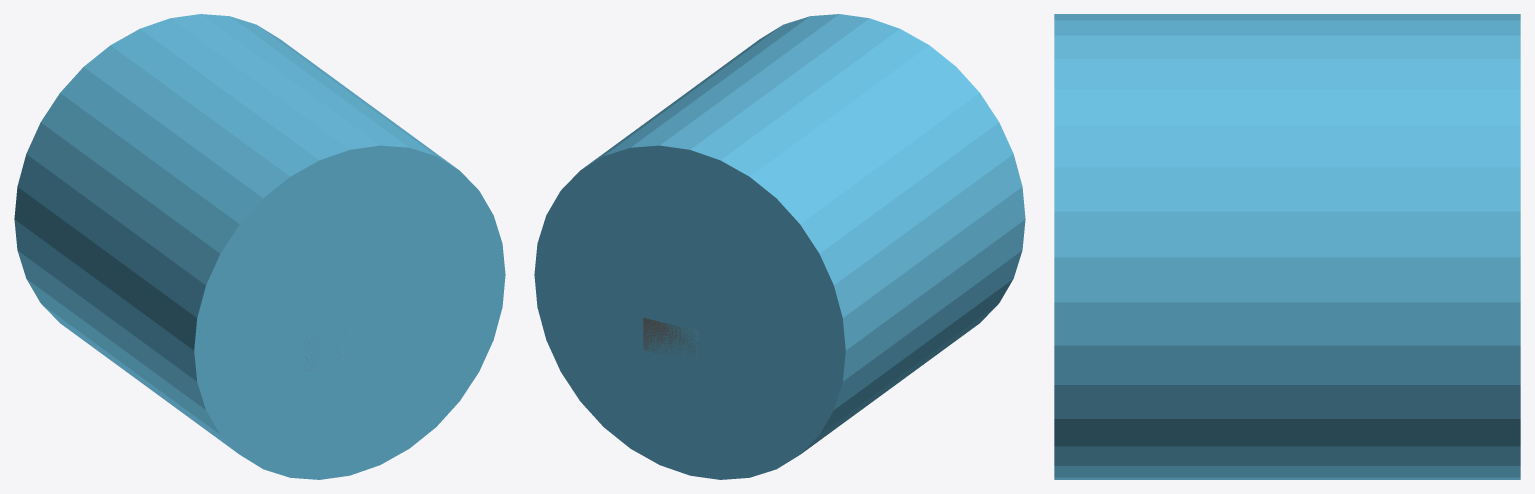
3 views of the same model, side by side, from view 1: azimuth 30°, elevation 25°; view 2: azimuth 150°, elevation 25°; view 3: azimuth 270°, elevation 25° (orthographic). The views are drawn at different scales.
Visible parts, largest first — view 1: Cylinder; view 2: Cylinder, Cube.001; view 3: Cylinder.
Part boxes in pixels (x1=…): Cylinder: x1=14, y1=14, x2=505, y2=479; Cylinder: x1=534, y1=14, x2=1025, y2=479; Cube.001: x1=643, y1=317, x2=701, y2=358; Cylinder: x1=1054, y1=14, x2=1520, y2=479.
Size of the model in its own units: 2 by 2 by 2.
